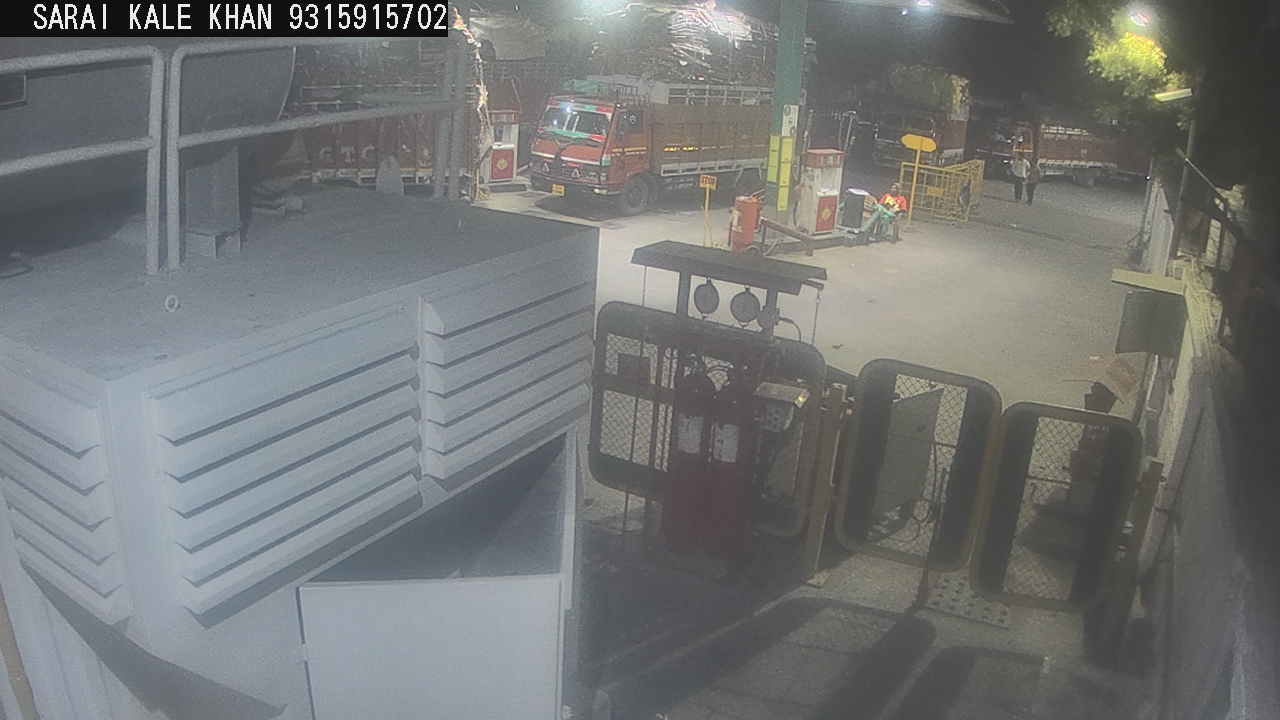HMV: (528, 2, 783, 223), (276, 28, 505, 217), (956, 64, 1127, 202), (459, 3, 581, 171), (859, 48, 983, 188), (1102, 83, 1176, 191)
Others: (848, 180, 912, 249)
Others Other: (694, 164, 716, 253)
